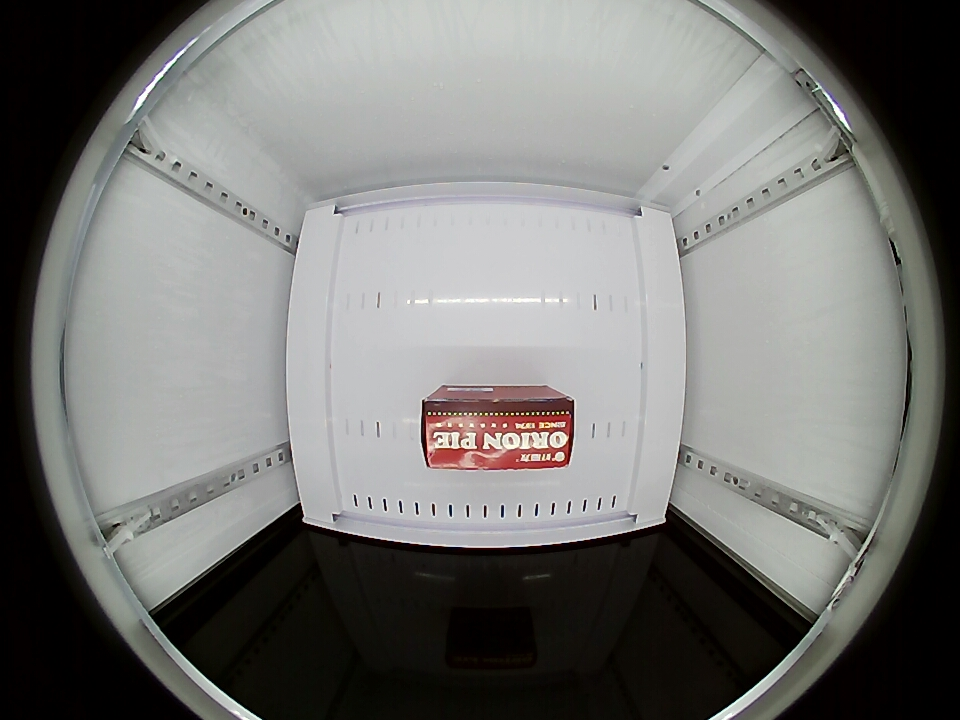haoliyou: (421, 386, 576, 471)
